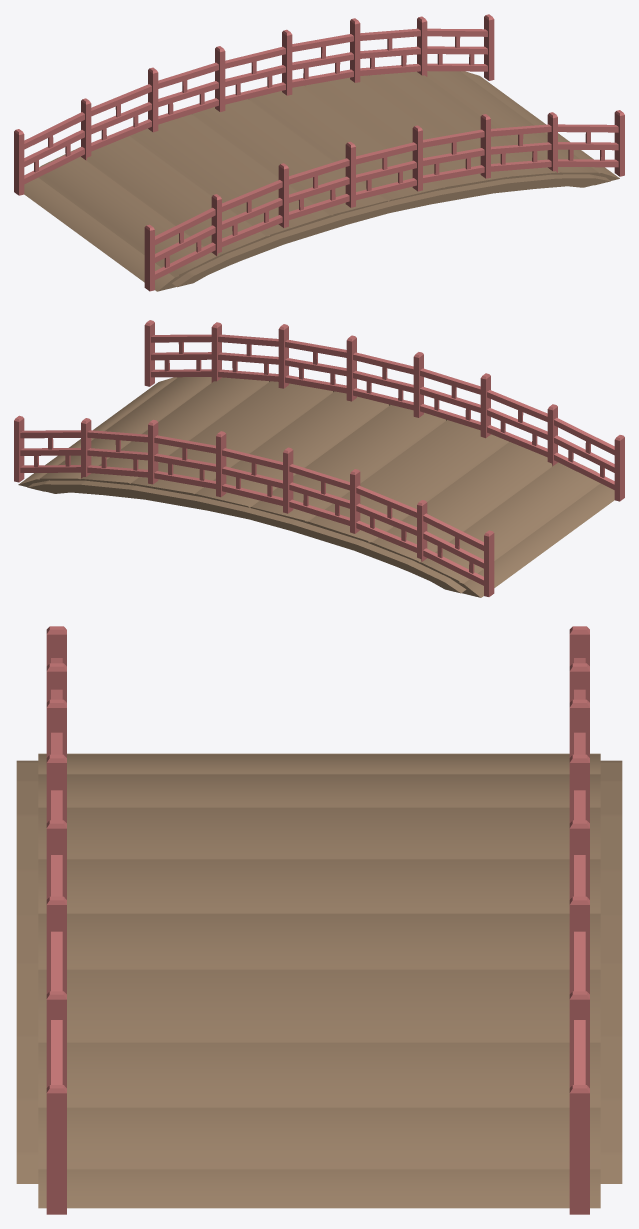
The model's file is Bridge.fbx.
3 renders of one model, top to bottom at view 1: azimuth 30°, elevation 25°; view 2: azimuth 150°, elevation 25°; view 3: azimuth 270°, elevation 25°, orthographic. The views are drawn at different scales.
Parts seen in each view (by area): view 1: pCylinder1, polySurface223, polySurface222; view 2: pCylinder1, polySurface222, polySurface223; view 3: pCylinder1, polySurface222, polySurface223.
Part boxes in pixels (x1,y1,x2,y2): pCylinder1: (24, 71, 619, 291); polySurface223: (14, 14, 494, 195); polySurface222: (144, 110, 624, 291); pCylinder1: (18, 377, 614, 597); polySurface222: (144, 320, 624, 501); polySurface223: (14, 415, 494, 596); pCylinder1: (16, 753, 622, 1208); polySurface222: (46, 626, 66, 1214); polySurface223: (569, 626, 589, 1214).
Bounding box in the file's own units: 162 × 31.53 × 89.56.
